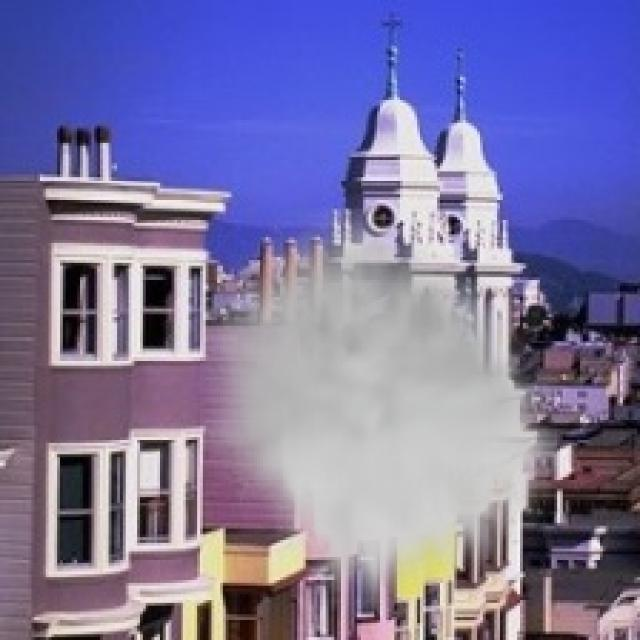Smoke: (200, 208, 557, 612)
